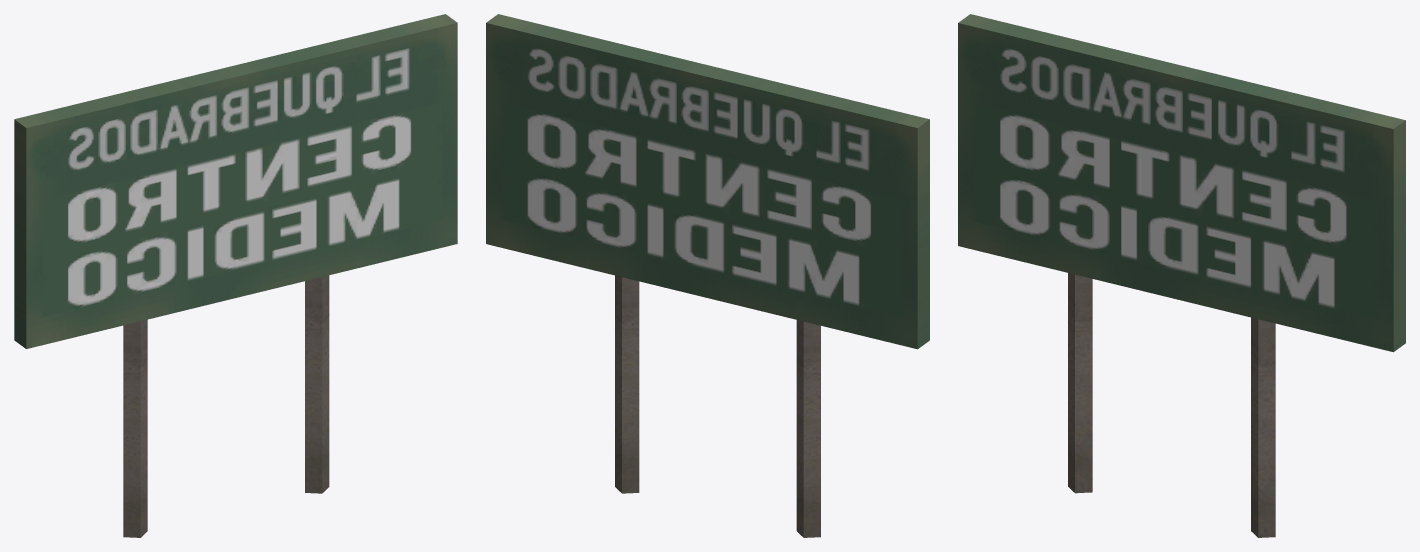
Rendered from des_medcensgn01.obj.
3 renders of one model, left to right at view 1: azimuth 30°, elevation 25°; view 2: azimuth 150°, elevation 25°; view 3: azimuth 330°, elevation 25°, orthographic.
Visible parts, largest first — view 1: des_medcensgn01; view 2: des_medcensgn01; view 3: des_medcensgn01.
Part boxes in pixels (<box>): des_medcensgn01: <box>14,14,457,537</box>; des_medcensgn01: <box>486,14,929,537</box>; des_medcensgn01: <box>958,14,1405,537</box>.
Bounding box in the file's own units: 4.11 × 3.99 × 0.2.
2 materials, 2 textured.
